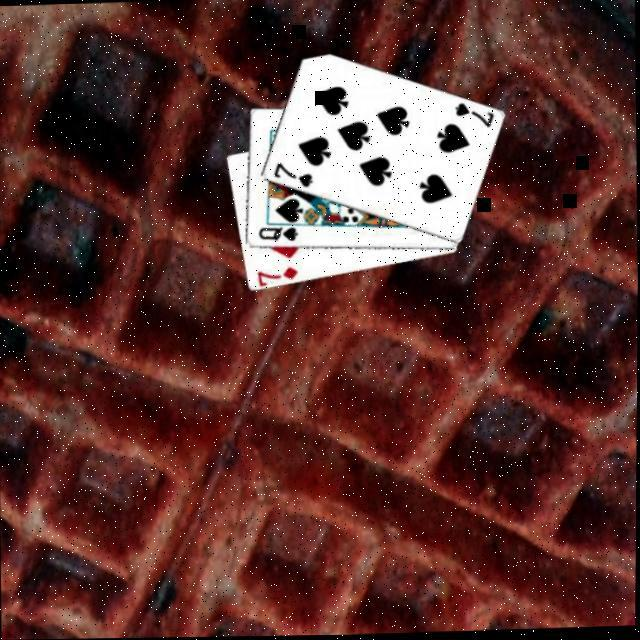7D: (256, 266, 302, 290)
7S: (271, 160, 317, 193), (452, 101, 498, 134)
QS: (257, 226, 302, 248)
